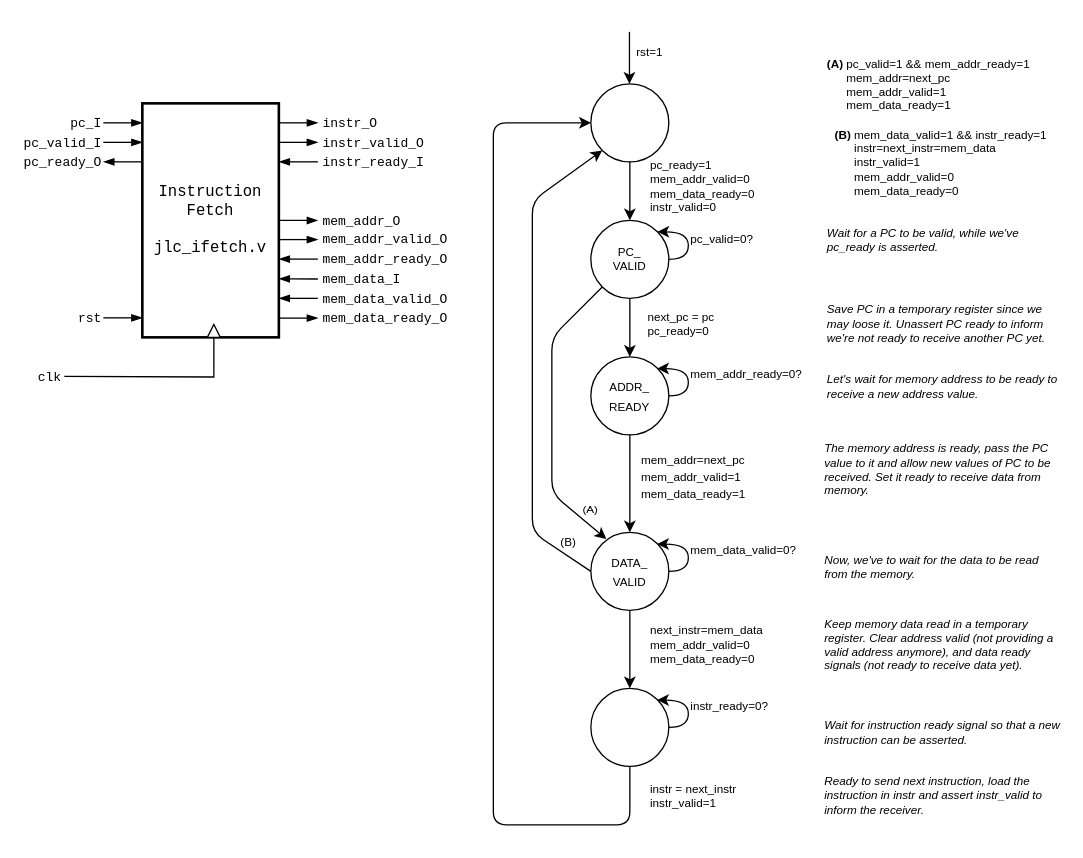
Some shapes in this 1083 by 858 pixel diagram are drawn without their labels. The centre of each missing label's shape, as x and y in pixels:
IDLE: (629,122)
INSTR_ READY: (629,726)
